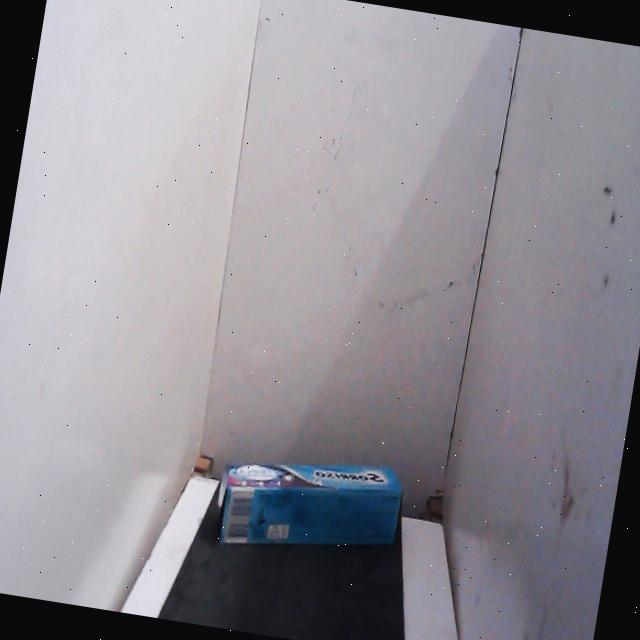papel: (206, 427, 414, 580)
